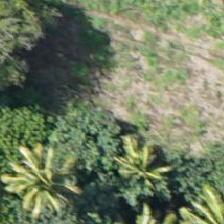coconut_tree: (0, 127, 90, 217), (95, 112, 185, 202)
